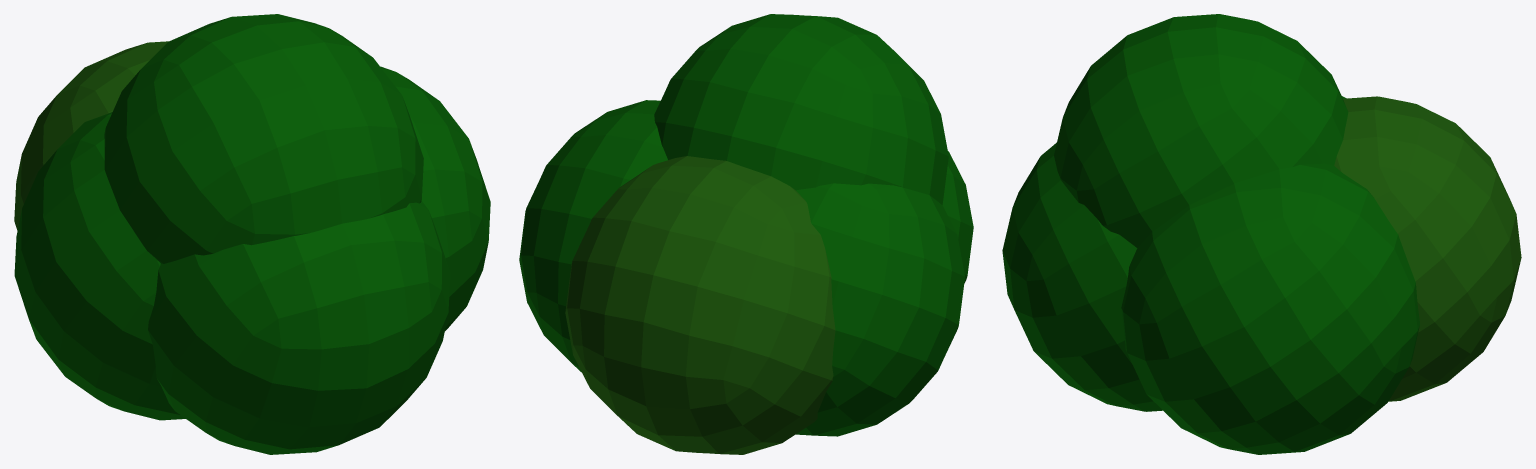
Rendered from treeModel.glb.
3 renders of one model, left to right at view 1: azimuth 30°, elevation 25°; view 2: azimuth 150°, elevation 25°; view 3: azimuth 270°, elevation 25°, orthographic. The views are drawn at different scales.
Visible parts, largest first — view 1: Cube.004, Cube.002, Cube.001, Cube.003, Cube.005; view 2: Cube.005, Cube.004, Cube.001, Cube.003, Cube.002; view 3: Cube.003, Cube.004, Cube.005, Cube.002.
Part boxes in pixels (x1,y1,x2,y2): Cube.004: [104, 14, 423, 263]; Cube.002: [148, 201, 450, 454]; Cube.001: [14, 112, 185, 420]; Cube.003: [380, 66, 490, 330]; Cube.005: [14, 41, 168, 230]; Cube.005: [565, 156, 835, 454]; Cube.004: [654, 14, 948, 204]; Cube.001: [796, 183, 964, 436]; Cube.003: [519, 100, 667, 372]; Cube.002: [942, 151, 973, 283]; Cube.003: [1121, 163, 1419, 454]; Cube.004: [1054, 14, 1348, 247]; Cube.005: [1334, 96, 1521, 401]; Cube.002: [1002, 142, 1162, 411].
Size of the model in its own units: 8.59 by 7.41 by 9.39.
